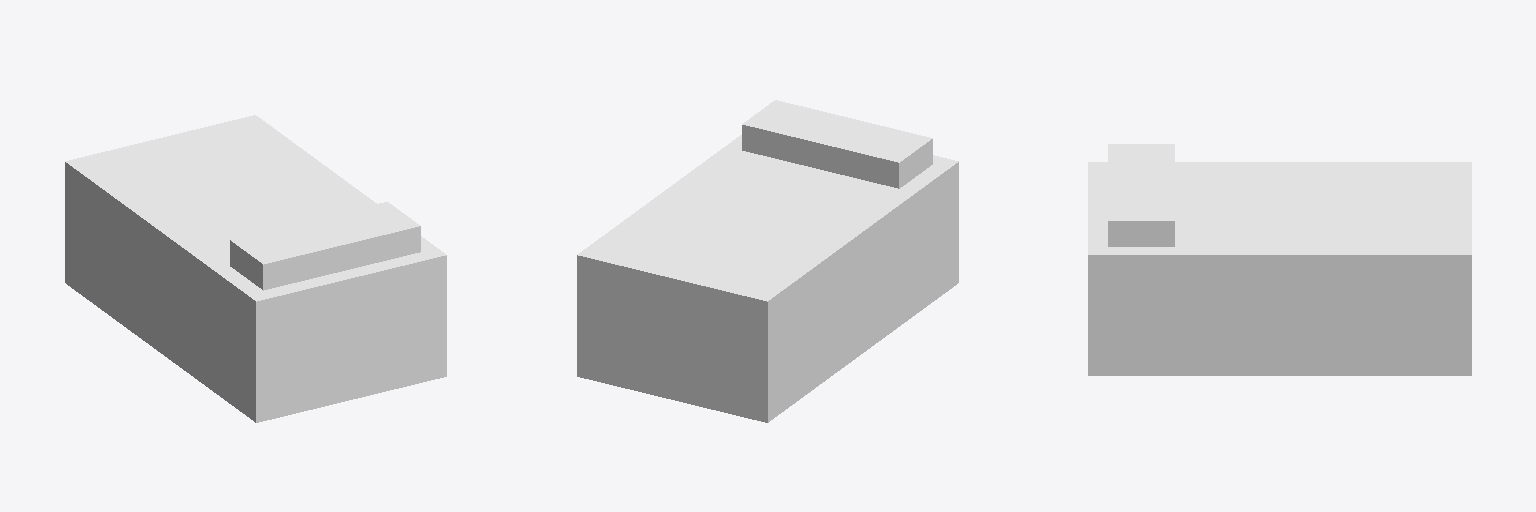
File: mesh_prop_bedroom_bed.obj
The picture shows the model from 3 angles: view 1: azimuth 30°, elevation 25°; view 2: azimuth 150°, elevation 25°; view 3: azimuth 270°, elevation 25°; orthographic projection.
Visible parts, largest first — view 1: object 1; view 2: object 1; view 3: object 1.
Part boxes in pixels (x1,y1,x2,y2): object 1: (65, 115, 446, 422); object 1: (577, 100, 958, 422); object 1: (1088, 144, 1471, 375).
Bounding box in the file's own units: 2.3 × 1.7 × 4.